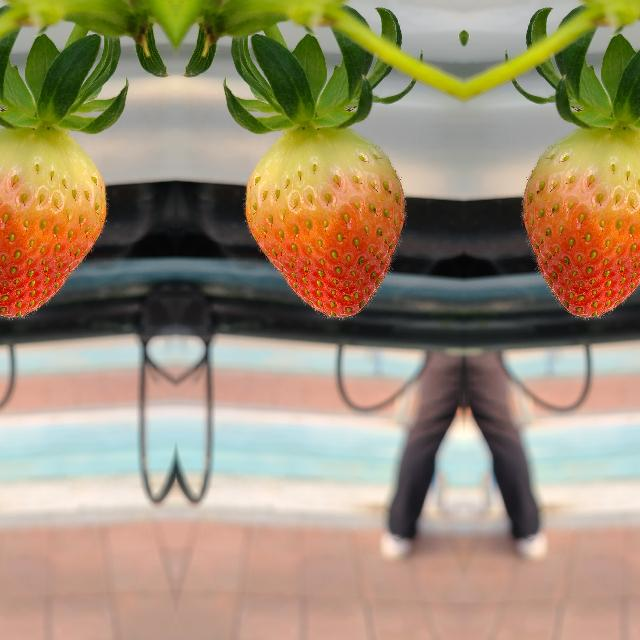Health_75: (240, 127, 408, 320), (518, 127, 640, 320), (0, 127, 109, 320)
